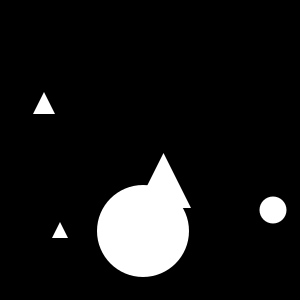rectangle: (97, 185, 189, 277), (260, 196, 286, 224)
triangle: (136, 153, 191, 208), (33, 92, 55, 114), (52, 222, 68, 238)
